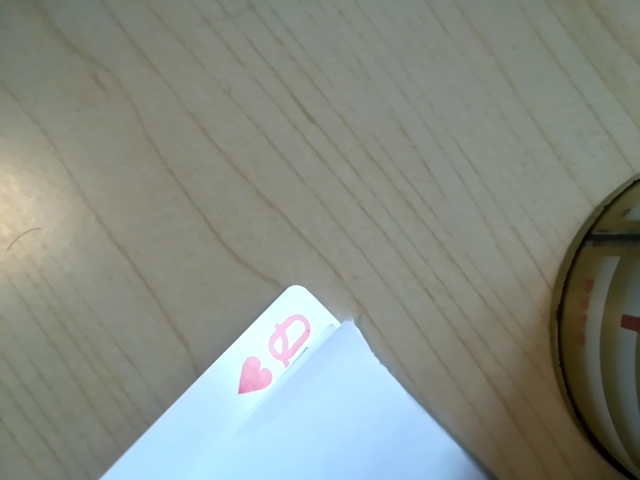hx q: (231, 308, 322, 398)
